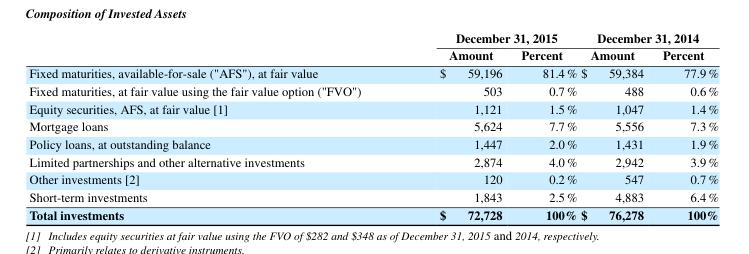table: (28, 28, 717, 222)
table column: (28, 28, 399, 222), (399, 28, 511, 222), (578, 28, 652, 222), (511, 28, 578, 222), (652, 28, 717, 222)
table column header: (28, 28, 717, 63)
table row: (28, 28, 717, 46), (28, 63, 717, 81), (28, 98, 717, 116), (28, 116, 717, 134), (28, 151, 717, 169), (28, 169, 717, 187), (28, 204, 717, 222), (28, 46, 717, 63), (28, 81, 717, 98), (28, 134, 717, 151), (28, 187, 717, 204)
table spanning cell: (399, 28, 578, 46), (578, 28, 717, 46)
